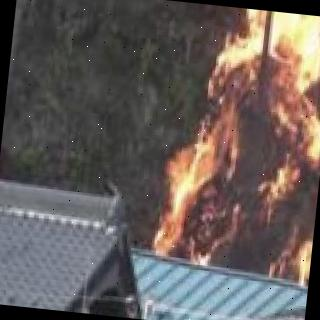fire: (158, 2, 320, 282)
